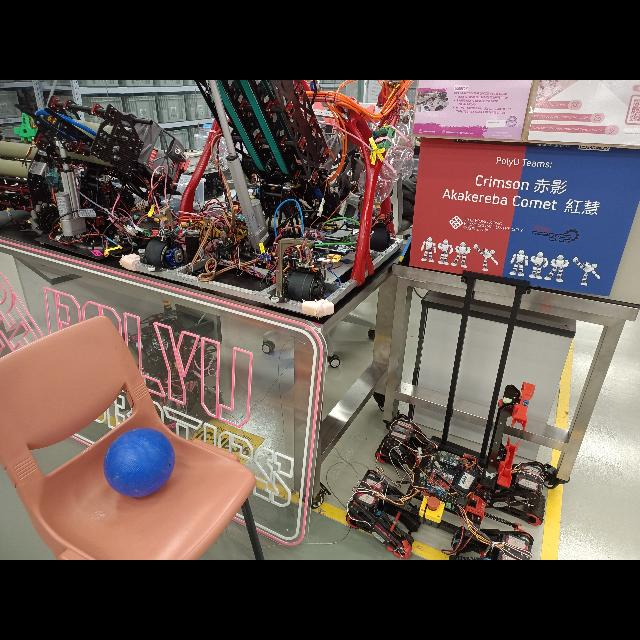B: (104, 427, 174, 499)
